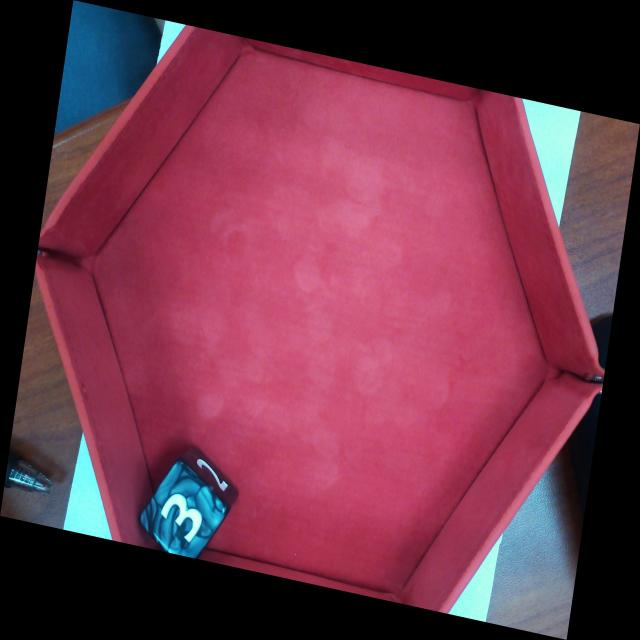dice: (141, 466, 226, 556)
